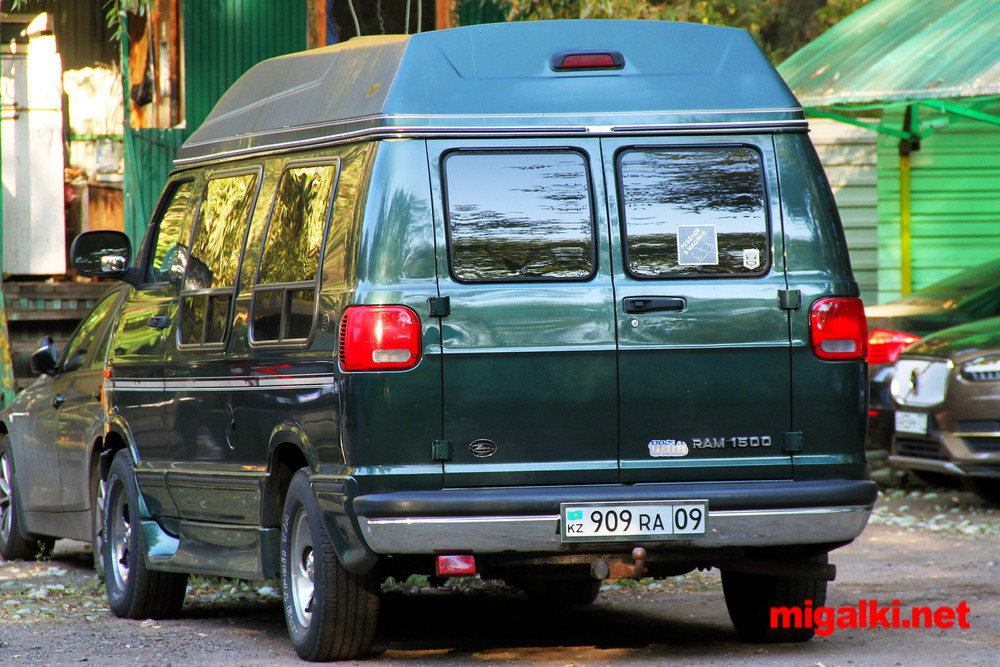license_plate: (558, 504, 711, 536)
